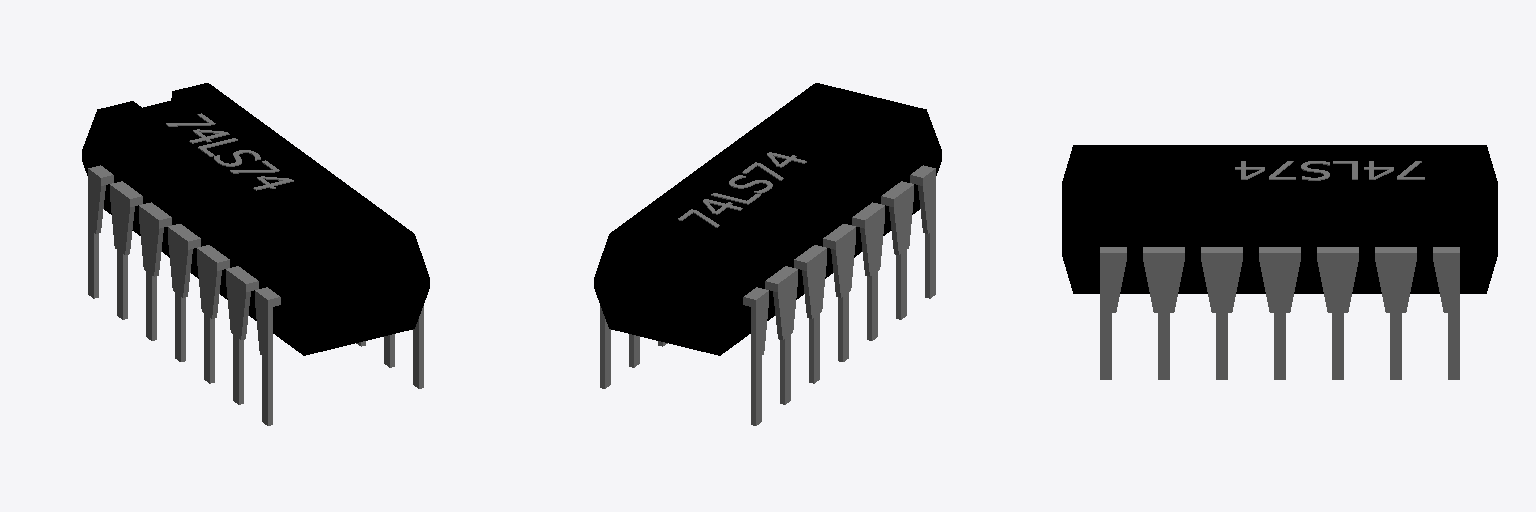
3 views of the same model, side by side, from view 1: azimuth 30°, elevation 25°; view 2: azimuth 150°, elevation 25°; view 3: azimuth 270°, elevation 25° (orthographic).
Visible parts, largest first — view 1: components.001_board_2.019; view 2: components.001_board_2.019; view 3: components.001_board_2.019.
Part boxes in pixels (x1,y1,x2,y2): components.001_board_2.019: (82, 83, 429, 425); components.001_board_2.019: (594, 83, 941, 425); components.001_board_2.019: (1062, 145, 1497, 379).
Bounding box in the file's own units: 0.79 × 0.825 × 1.91.